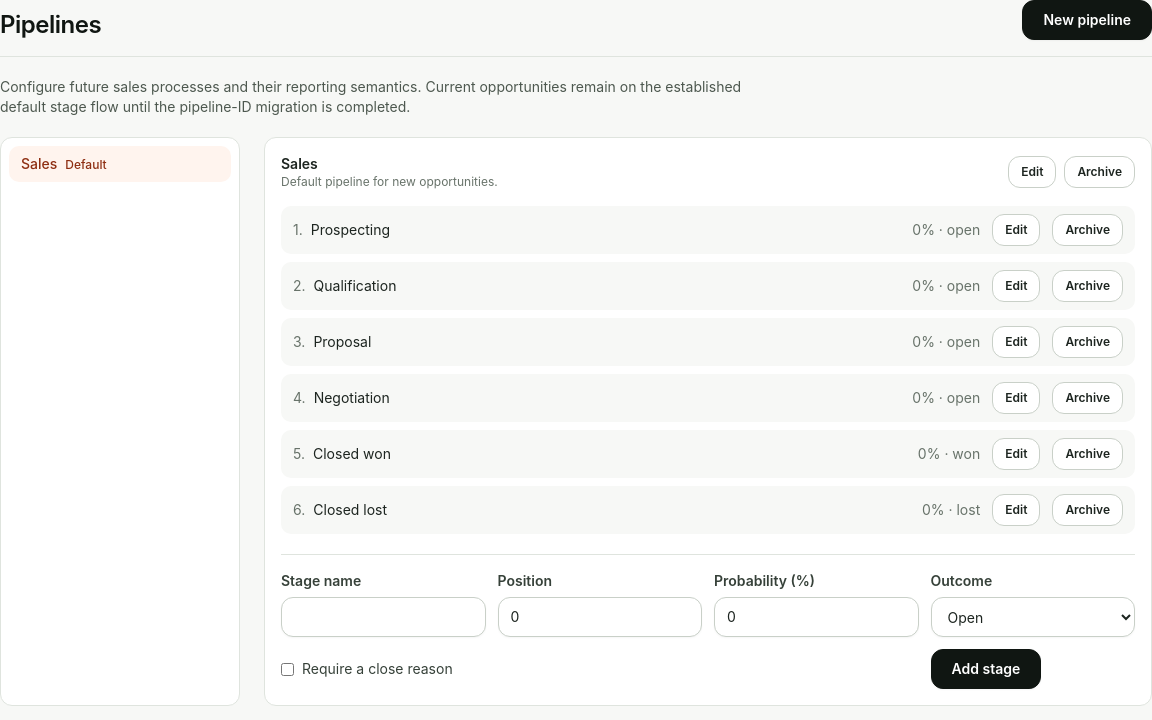
Test: PipelinesPage accessibility › asks before archiving a pipeline, and does nothing until confirmed
Expected: the text "Prospecting" is shown, [311,221,390,238]
Step 1. Click the button with aria-label "Archive pipeline Sales" → (1100, 172), box [1064,156,1135,188]
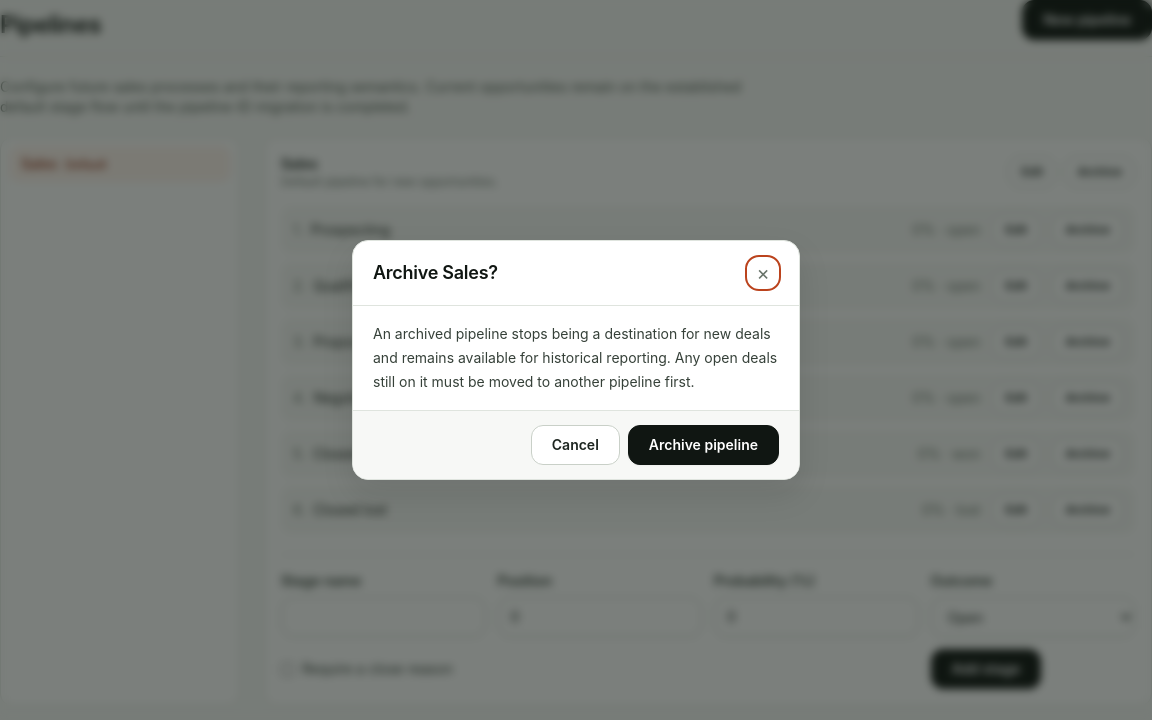
Now the dialog is shown, box [352,240,800,480]
